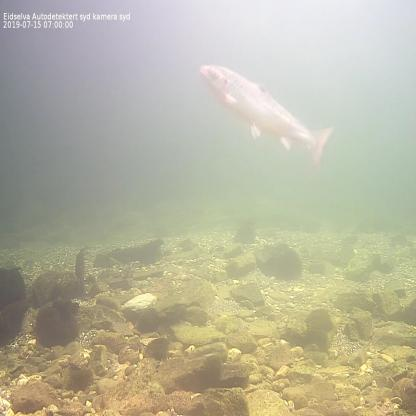salmon: (197, 60, 337, 169)
